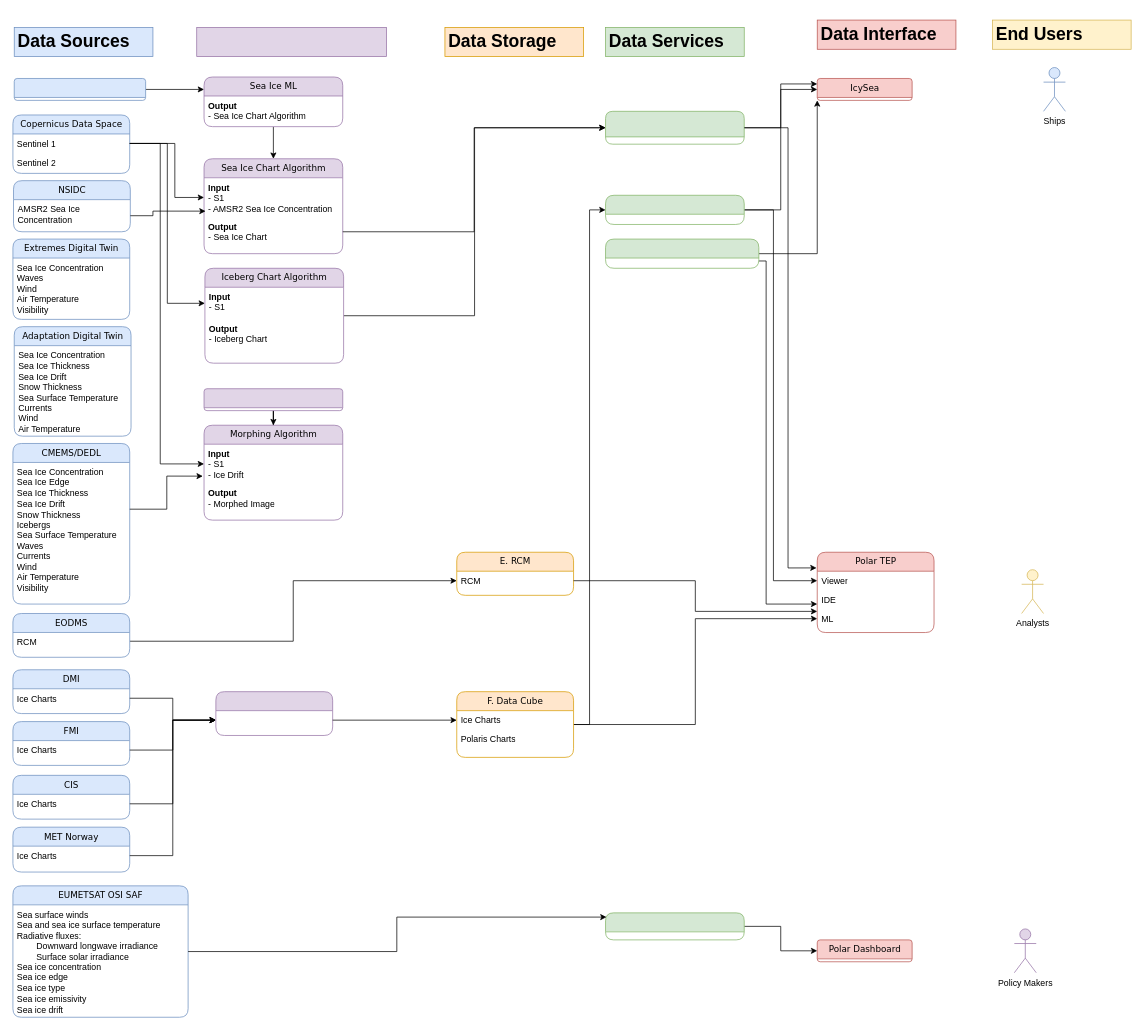
The diagram is 1144 pixels wide and 1031 high, and some of its shapes have lost their labels. The centre of each missing label's shape, as x and y in pixels:
A. Climate Indicators: point 674,926
ASIP Training Dataset: point 80,89
B. Automated Charts: point 674,127
C. POLARIS: point 674,209
D. Satellite Image Morphing: point 682,253
Data Transformation: point 291,42
NextSIM?: point 273,399
Polaris Algorithm: point 274,713
